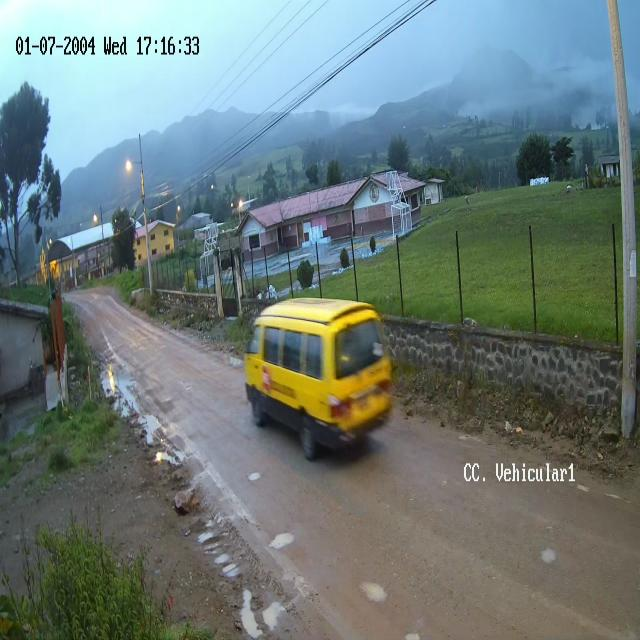BUS: (244, 297, 394, 462)
